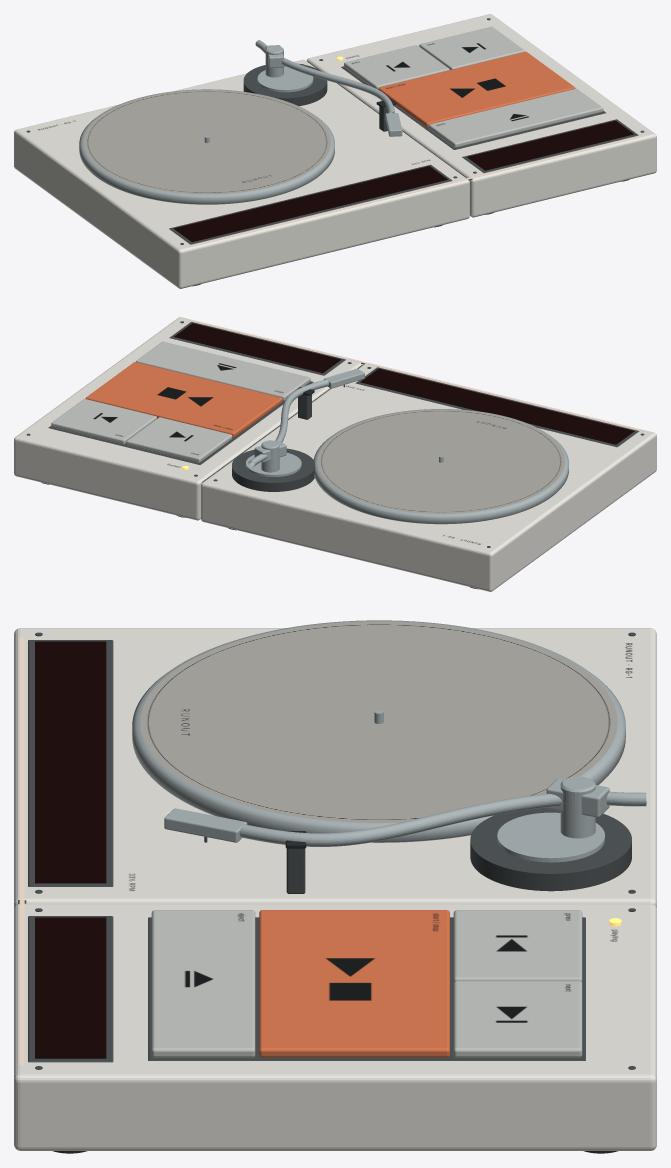
File: turntable_mono_white.glb
The picture shows the model from 3 angles, top to bottom: view 1: azimuth 30°, elevation 25°; view 2: azimuth 150°, elevation 25°; view 3: azimuth 270°, elevation 25°; orthographic projection. The views are drawn at different scales.
Visible parts, largest first — view 1: Chassis_Main, Turntable_Platter, Screen_Glass, Key_StartStop, Key_Eject, Screen_Display, Chassis_Trim, Tonearm_Base, Screen_Time, Key_Prev, Key_Next, Tonearm_Arm (+1 smaller); view 2: Chassis_Main, Turntable_Platter, Screen_Glass, Key_StartStop, Screen_Display, Key_Eject, Tonearm_Base, Chassis_Trim, Key_Prev, Key_Next, Screen_Time, Tonearm_Arm (+1 smaller); view 3: Chassis_Main, Turntable_Platter, Key_StartStop, Screen_Glass, Screen_Display, Key_Eject, Tonearm_Base, Chassis_Trim, Key_Next, Screen_Time, Key_Prev, Tonearm_Arm (+1 smaller).
Part boxes in pixels (left/top/right/bottom): Chassis_Main: left=14, top=14, right=656, bottom=288; Turntable_Platter: left=79, top=89, right=334, bottom=204; Screen_Glass: left=174, top=120, right=633, bottom=241; Key_StartStop: left=378, top=51, right=575, bottom=127; Key_Eject: left=428, top=88, right=603, bottom=147; Screen_Display: left=175, top=167, right=447, bottom=242; Chassis_Trim: left=26, top=18, right=644, bottom=244; Tonearm_Base: left=243, top=57, right=396, bottom=131; Screen_Time: left=468, top=121, right=633, bottom=170; Key_Prev: left=344, top=45, right=449, bottom=89; Key_Next: left=419, top=26, right=524, bottom=69; Tonearm_Arm: left=255, top=40, right=402, bottom=136; Chassis_Main: left=14, top=317, right=656, bottom=591; Turntable_Platter: left=313, top=409, right=568, bottom=524; Screen_Glass: left=174, top=323, right=634, bottom=444; Key_StartStop: left=85, top=362, right=282, bottom=437; Screen_Display: left=360, top=369, right=633, bottom=444; Key_Eject: left=136, top=341, right=310, bottom=400; Tonearm_Base: left=232, top=387, right=315, bottom=491; Chassis_Trim: left=26, top=321, right=644, bottom=547; Key_Prev: left=126, top=417, right=232, bottom=462; Key_Next: left=51, top=399, right=156, bottom=444; Screen_Time: left=175, top=324, right=340, bottom=373; Tonearm_Arm: left=248, top=368, right=364, bottom=467; Chassis_Main: left=14, top=628, right=656, bottom=1150; Turntable_Platter: left=132, top=620, right=625, bottom=842; Key_StartStop: left=259, top=910, right=449, bottom=1057; Screen_Glass: left=35, top=641, right=106, bottom=1058; Screen_Display: left=35, top=642, right=105, bottom=883; Key_Eject: left=151, top=910, right=255, bottom=1057; Tonearm_Base: left=285, top=802, right=631, bottom=893; Chassis_Trim: left=18, top=632, right=635, bottom=1069; Key_Next: left=453, top=981, right=582, bottom=1057; Screen_Time: left=35, top=919, right=105, bottom=1058; Key_Prev: left=453, top=910, right=582, bottom=983; Tonearm_Arm: left=164, top=776, right=646, bottom=846.
Size of what is drawn, in the model's own units: 5.14 by 0.843 by 3.1.
Materials: 12 (3 with a texture image).
